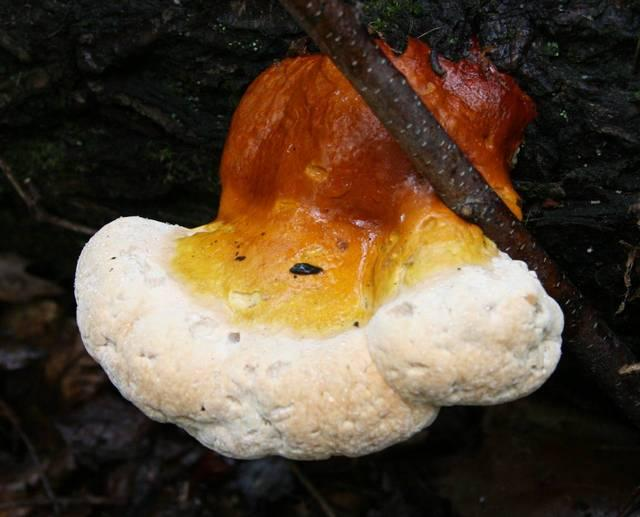Non-edible Mushroom: (72, 33, 566, 462)
